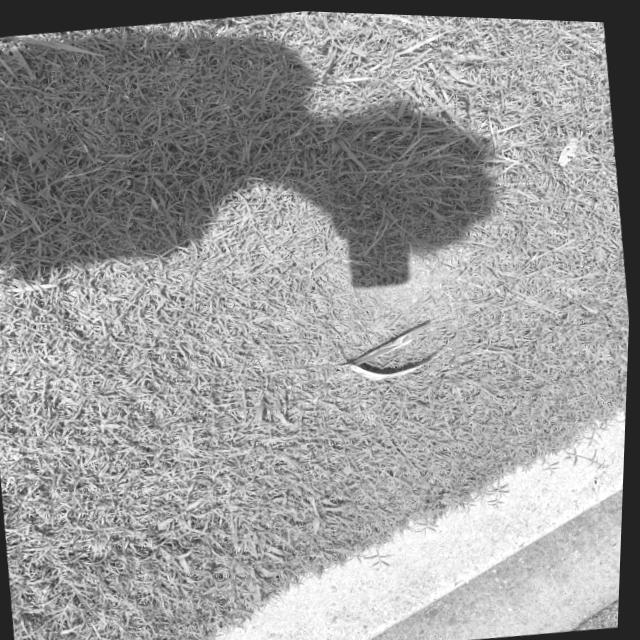Plastic: (331, 308, 458, 389)
